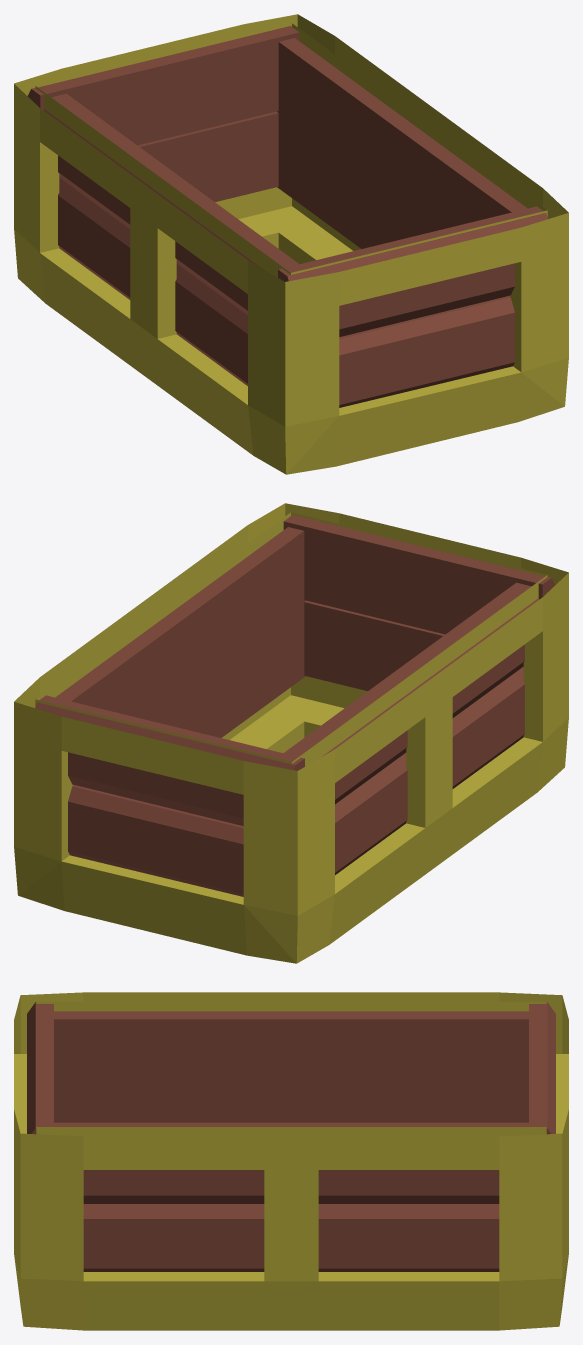
Rendered from chest_base.fbx.
3 renders of one model, top to bottom at view 1: azimuth 30°, elevation 25°; view 2: azimuth 150°, elevation 25°; view 3: azimuth 270°, elevation 25°, orthographic.
Visible parts, largest first — view 1: Frame.002, Wood_1.007, Wood_2.004, Wood_1.006, Wood_1.005; view 2: Frame.002, Wood_1.007, Wood_2.004, Wood_1.006, Wood_1.005; view 3: Frame.002, Wood_2.004, Wood_1.005, Wood_1.007.
Part boxes in pixels (left/top/right/bottom): Frame.002: left=14, top=14, right=568, bottom=474; Wood_1.007: left=27, top=26, right=547, bottom=336; Wood_2.004: left=43, top=38, right=527, bottom=315; Wood_1.006: left=138, top=111, right=514, bottom=407; Wood_1.005: left=58, top=115, right=436, bottom=385; Frame.002: left=14, top=503, right=568, bottom=963; Wood_1.007: left=35, top=515, right=555, bottom=825; Wood_2.004: left=55, top=527, right=539, bottom=804; Wood_1.006: left=68, top=600, right=444, bottom=896; Wood_1.005: left=146, top=604, right=524, bottom=874; Frame.002: left=14, top=992, right=568, bottom=1330; Wood_2.004: left=54, top=1011, right=528, bottom=1203; Wood_1.005: left=54, top=1092, right=528, bottom=1271; Wood_1.007: left=27, top=1002, right=555, bottom=1134.
Bounding box in the file's own units: 183 × 120 × 298.
